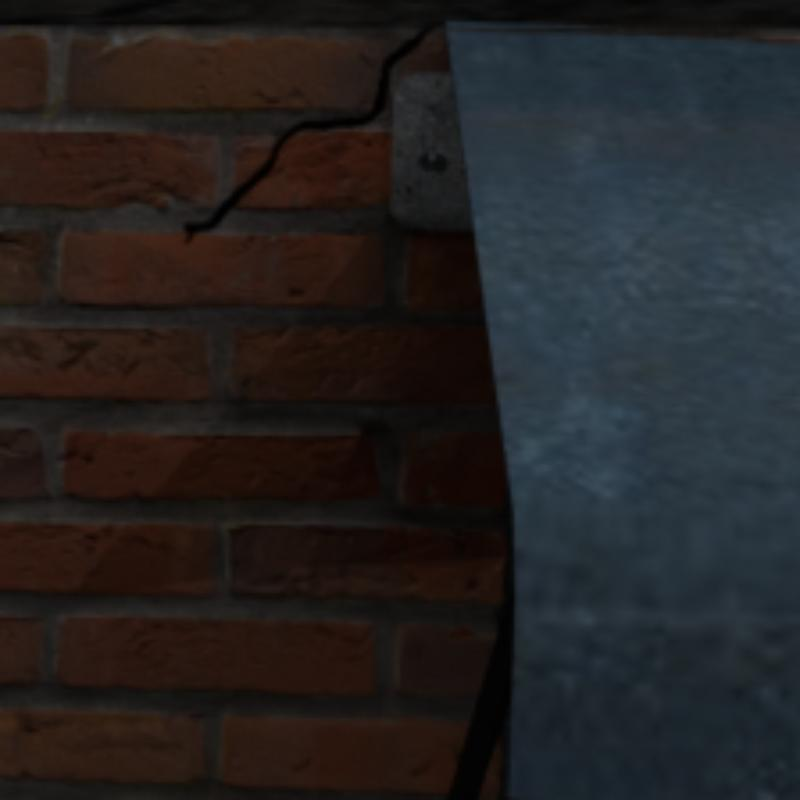pothole: (186, 29, 429, 239)
